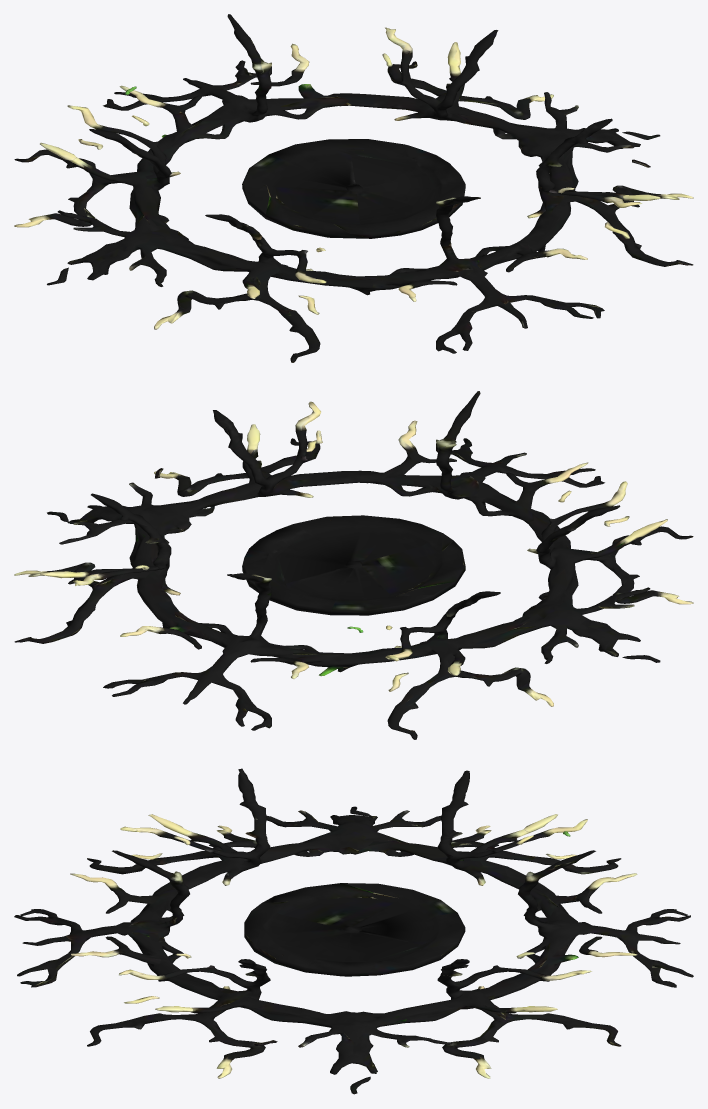
File: briarhold-thorn-snare-256.glb
3 views of the same model, one above another, from view 1: azimuth 30°, elevation 25°; view 2: azimuth 150°, elevation 25°; view 3: azimuth 270°, elevation 25° (orthographic). The views are drawn at different scales.
Parts seen in each view (by area): view 1: briarhold-thorn-snare; view 2: briarhold-thorn-snare; view 3: briarhold-thorn-snare.
Part boxes in pixels (<box>): briarhold-thorn-snare: <box>14,14,693,362</box>; briarhold-thorn-snare: <box>14,391,693,739</box>; briarhold-thorn-snare: <box>14,768,693,1094</box>.
Bounding box in the file's own units: 5.4 × 0.9016 × 5.4.
1 material, 1 textured.
